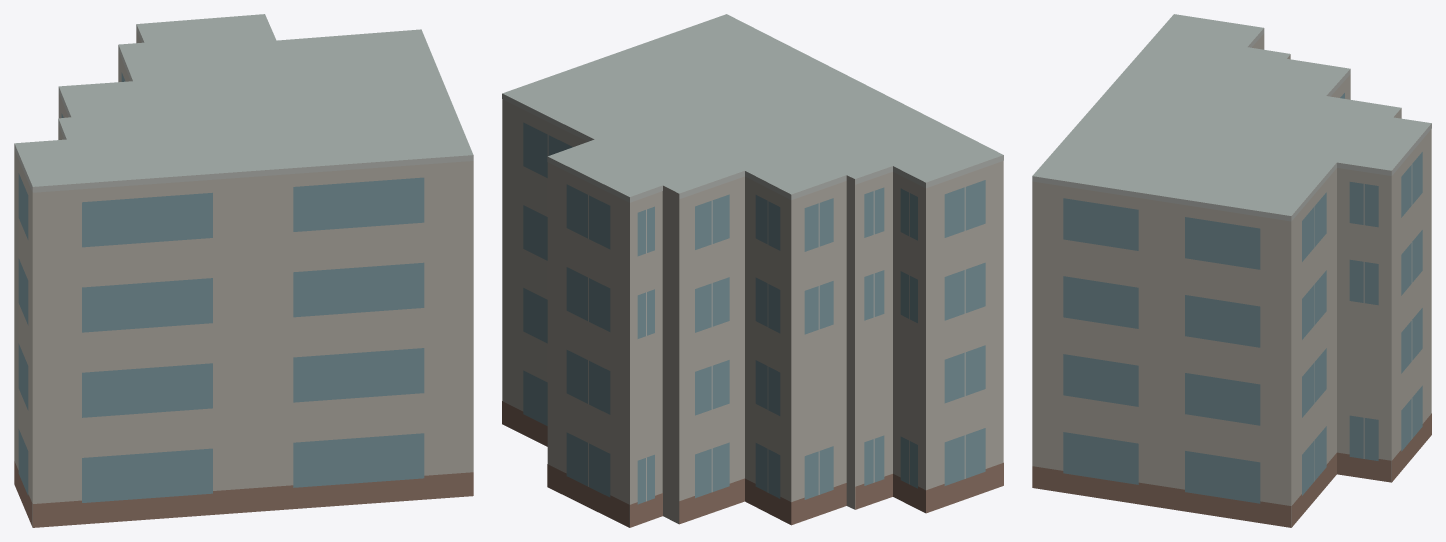
File: survey-upis-32489104.glb
The picture shows the model from 3 angles, left to right: view 1: azimuth 30°, elevation 25°; view 2: azimuth 150°, elevation 25°; view 3: azimuth 270°, elevation 25°; orthographic projection. The views are drawn at different scales.
Parts seen in each view (by area): view 1: survey-upis-32489104.tmp; view 2: survey-upis-32489104.tmp; view 3: survey-upis-32489104.tmp.
Boxes of the visible parts, x1,y1,x2,y2 form: survey-upis-32489104.tmp: (14,14,473,527); survey-upis-32489104.tmp: (502,14,1003,527); survey-upis-32489104.tmp: (1032,14,1431,527).
Bounding box in the file's own units: 19.75 × 14.2 × 16.5.
